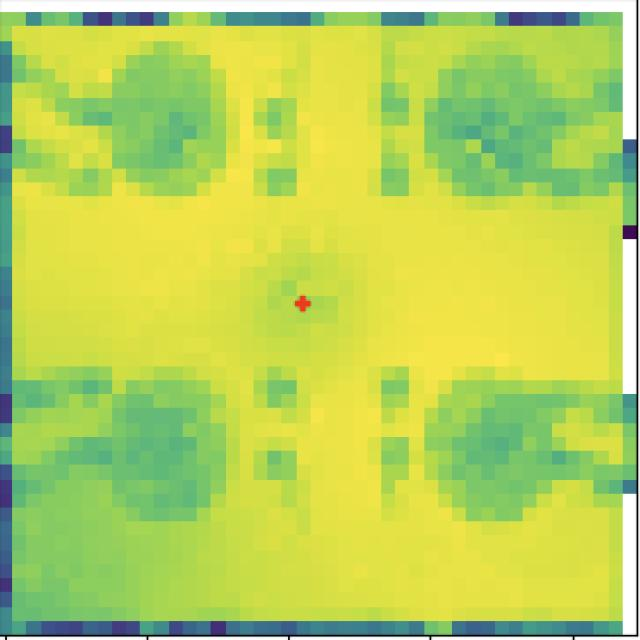Concrete: (433, 370, 564, 526)
Glass: (428, 40, 604, 203)
Metal: (94, 382, 247, 528)
Wood: (87, 42, 240, 198)
